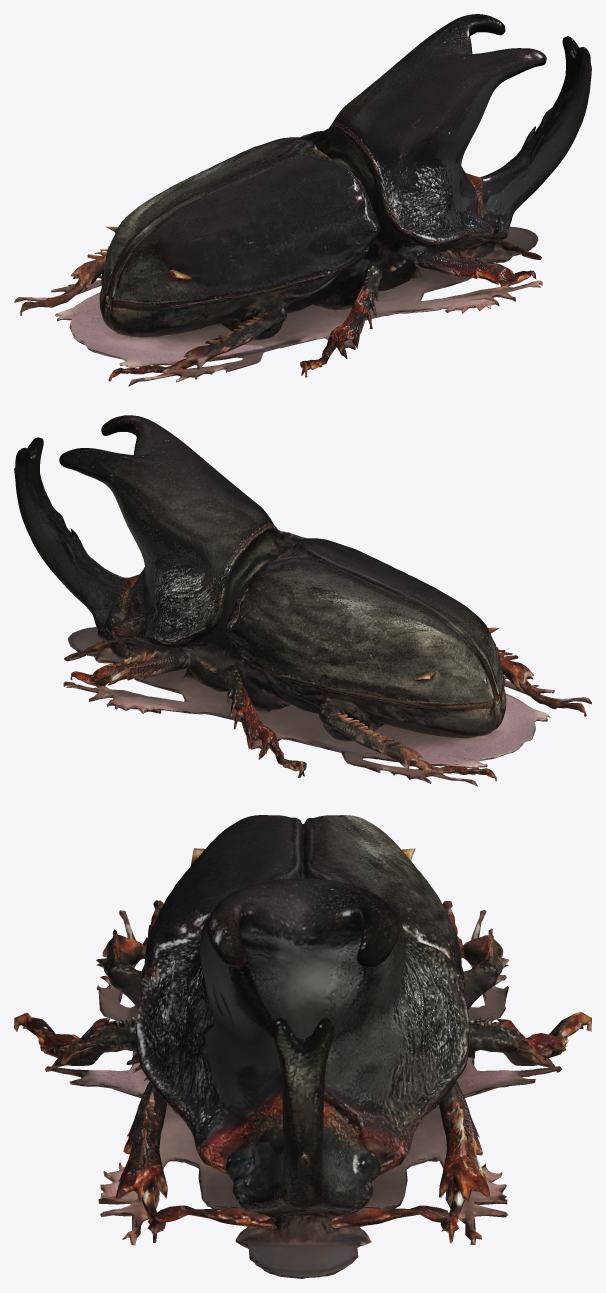
The model's file is 傑森暴龍.glb.
3 renders of one model, top to bottom at view 1: azimuth 30°, elevation 25°; view 2: azimuth 150°, elevation 25°; view 3: azimuth 270°, elevation 25°, orthographic. The views are drawn at different scales.
Parts seen in each view (by area): view 1: tripo_node_0a33f169-4657-4d5e-963a-6edf066177ce; view 2: tripo_node_0a33f169-4657-4d5e-963a-6edf066177ce; view 3: tripo_node_0a33f169-4657-4d5e-963a-6edf066177ce.
Boxes of the visible parts, x1,y1,x2,y2 form: tripo_node_0a33f169-4657-4d5e-963a-6edf066177ce: (14,14,591,386); tripo_node_0a33f169-4657-4d5e-963a-6edf066177ce: (14,415,591,786); tripo_node_0a33f169-4657-4d5e-963a-6edf066177ce: (14,815,591,1278).
Size of the model in its own units: 0.9771 by 0.3827 by 0.5854.
1 material, 1 textured.
